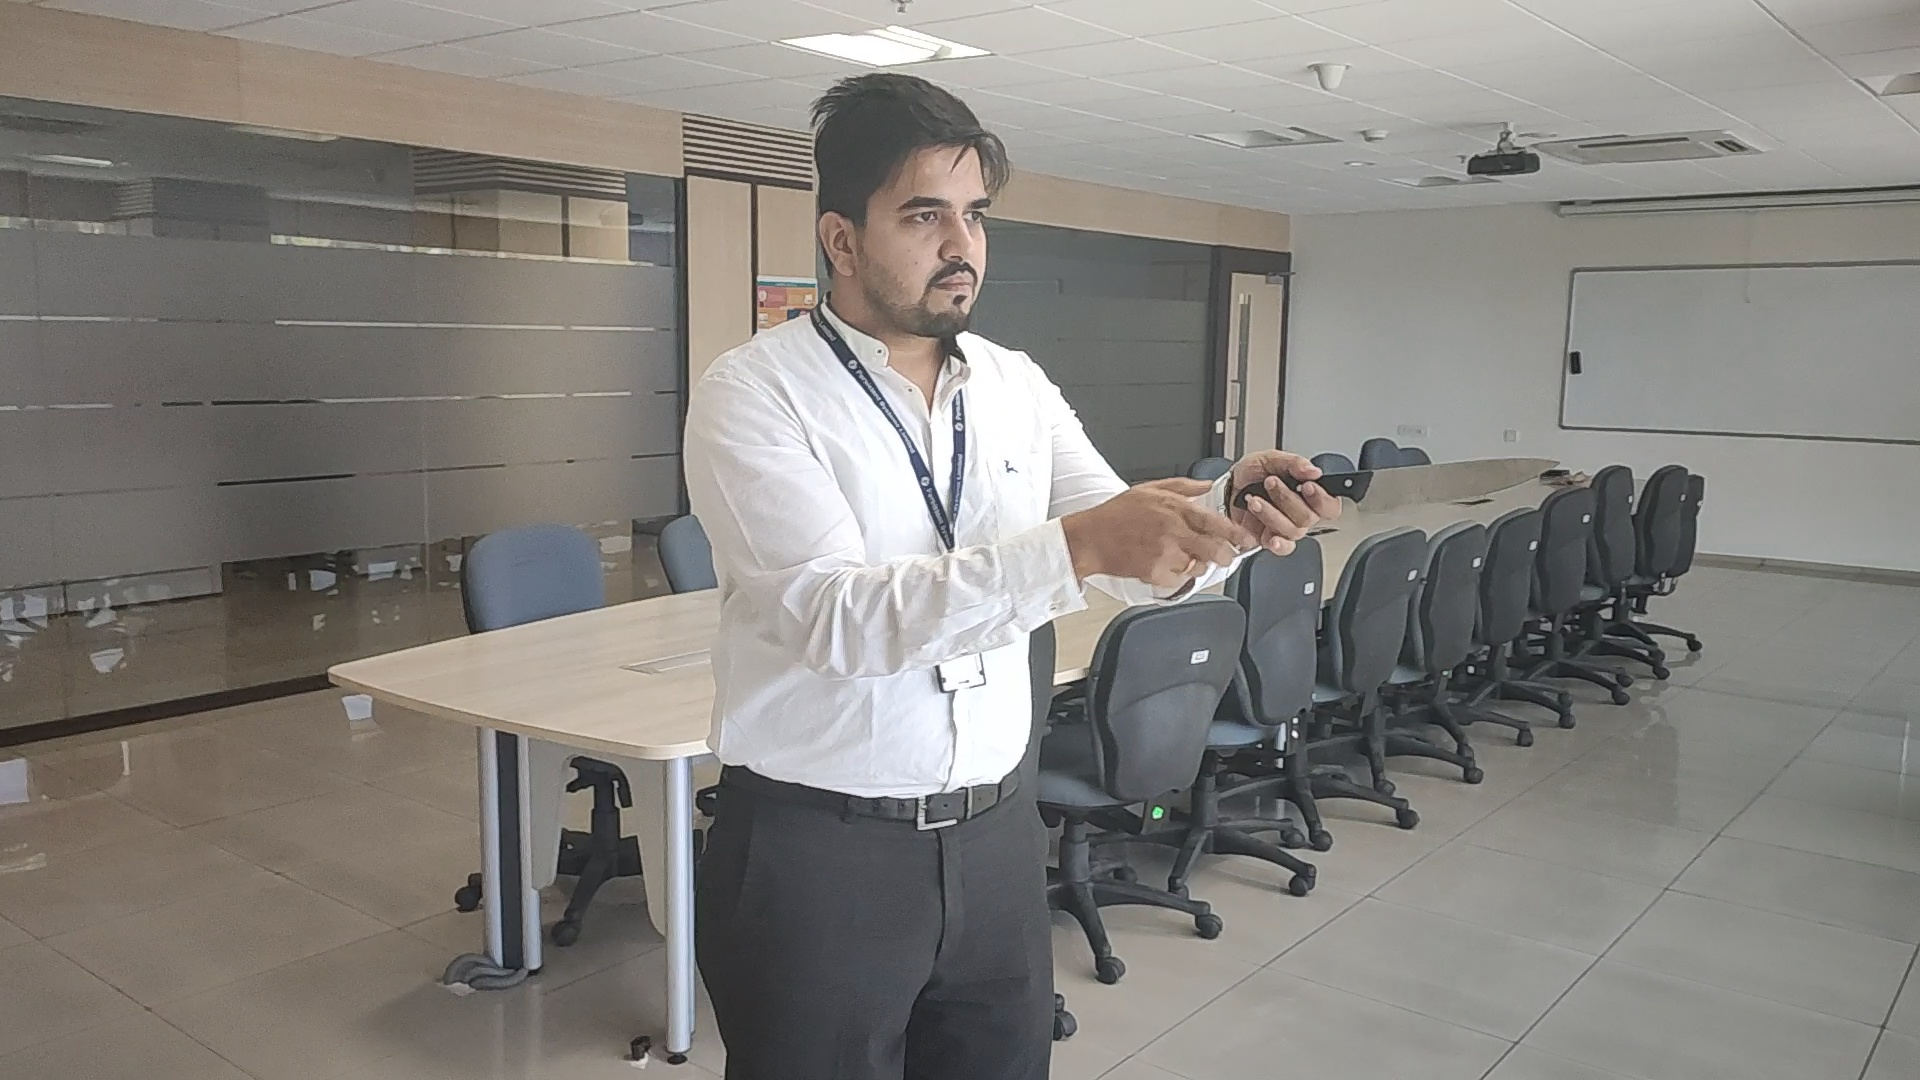knife: (1342, 458, 1561, 516)
